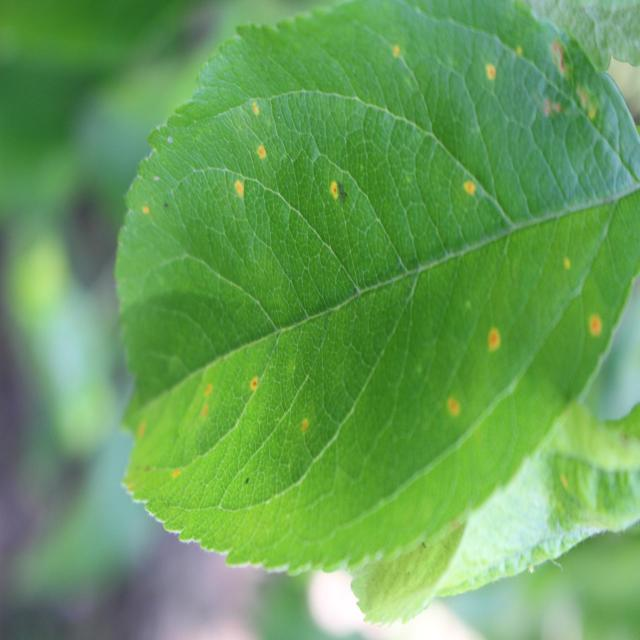Rust: (323, 170, 352, 222), (480, 313, 506, 366), (383, 31, 413, 72), (460, 168, 484, 218), (436, 392, 468, 426), (476, 51, 500, 95), (289, 410, 322, 440), (504, 35, 529, 69), (136, 191, 158, 227), (584, 309, 606, 342), (560, 233, 578, 272), (134, 412, 155, 445), (229, 173, 249, 207), (192, 376, 222, 396), (243, 368, 259, 402), (255, 135, 269, 171), (246, 97, 264, 121), (195, 403, 213, 421), (167, 466, 185, 484)
